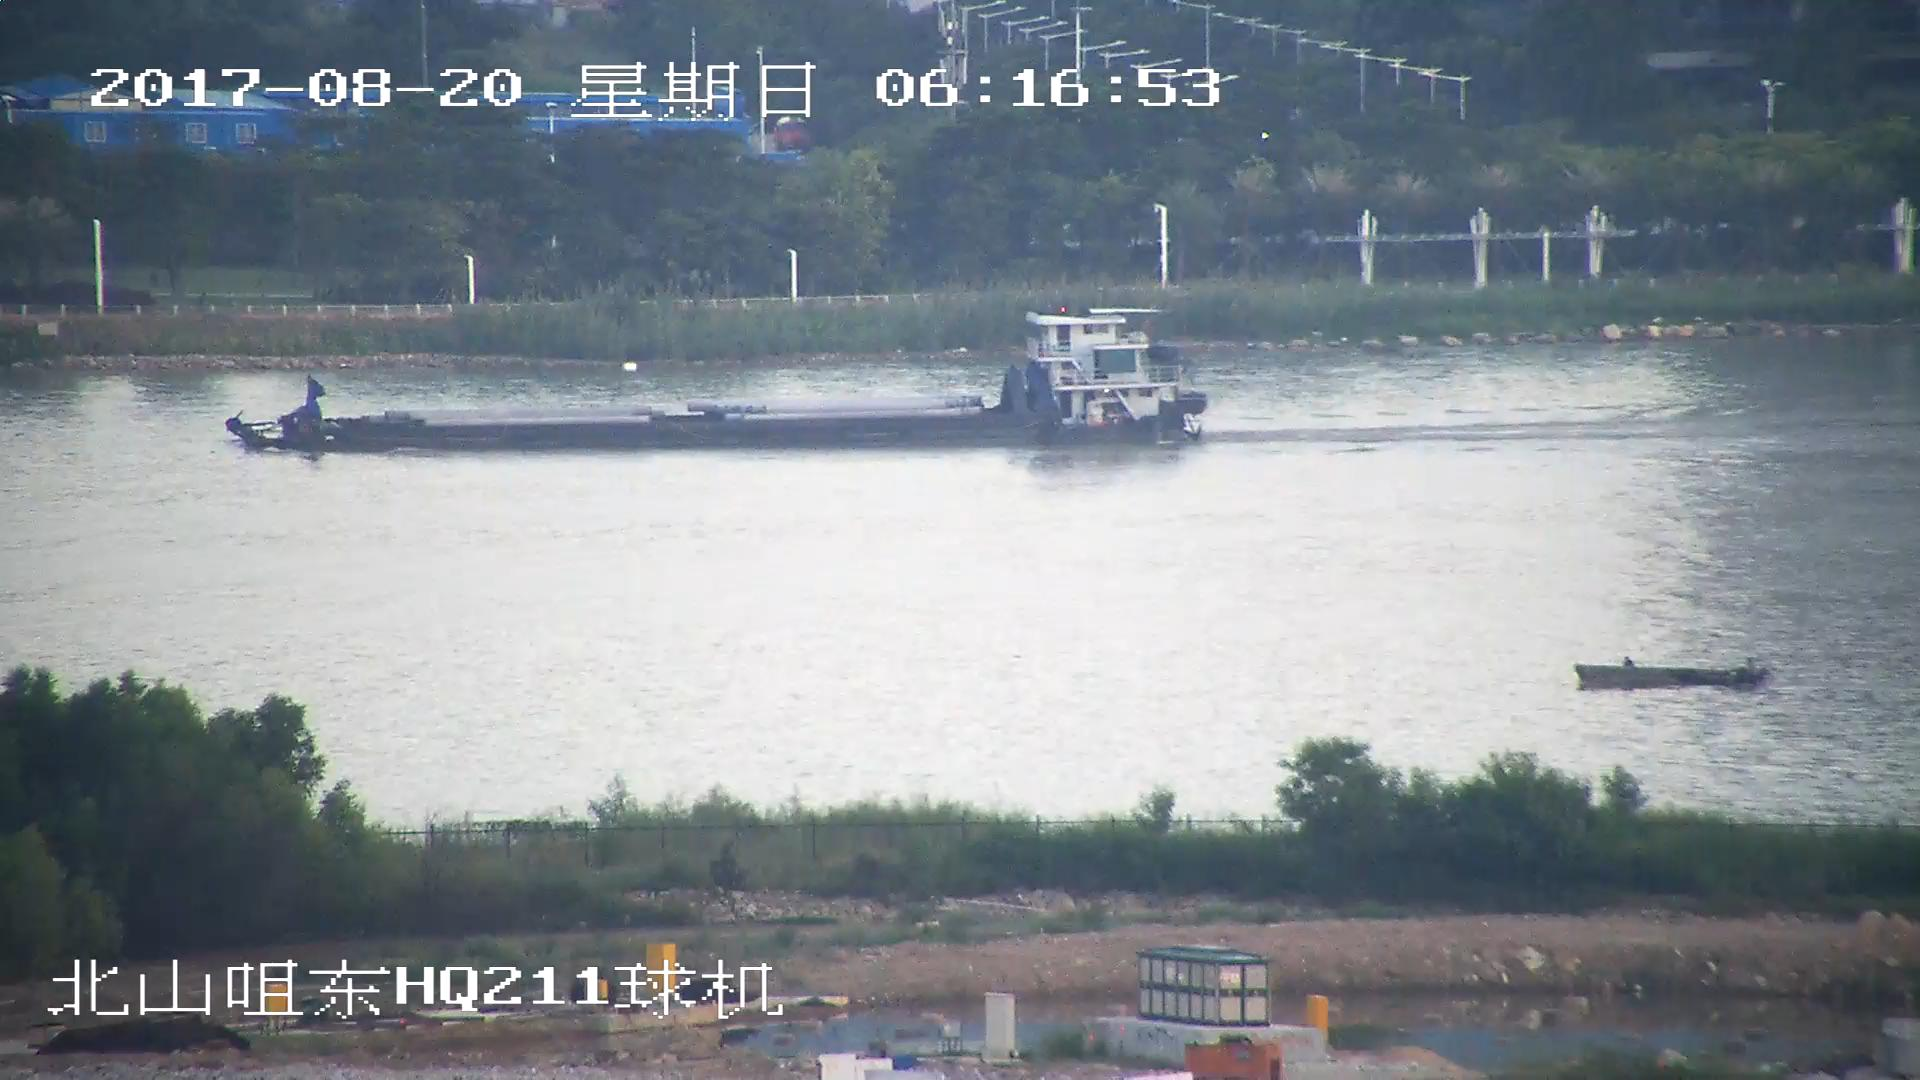bulk cargo carrier: (224, 306, 1209, 453)
fishing boat: (1574, 656, 1772, 692)
